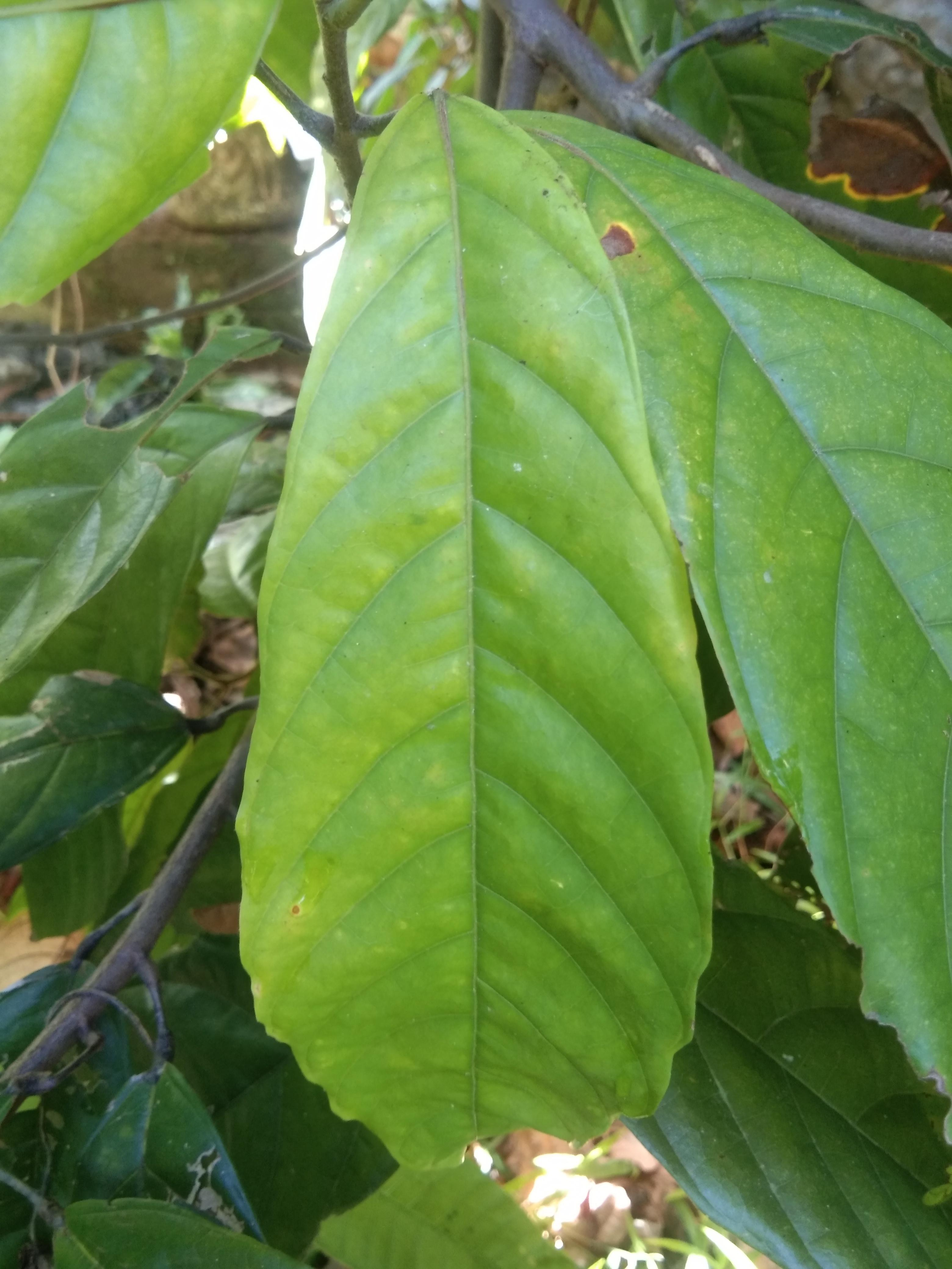deficiencia_potasio: (235, 89, 714, 1172)
